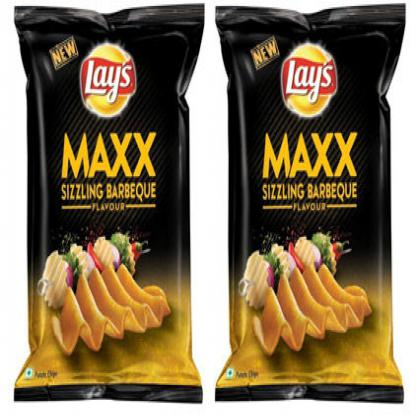plastic: (215, 3, 398, 400), (14, 5, 200, 393)
